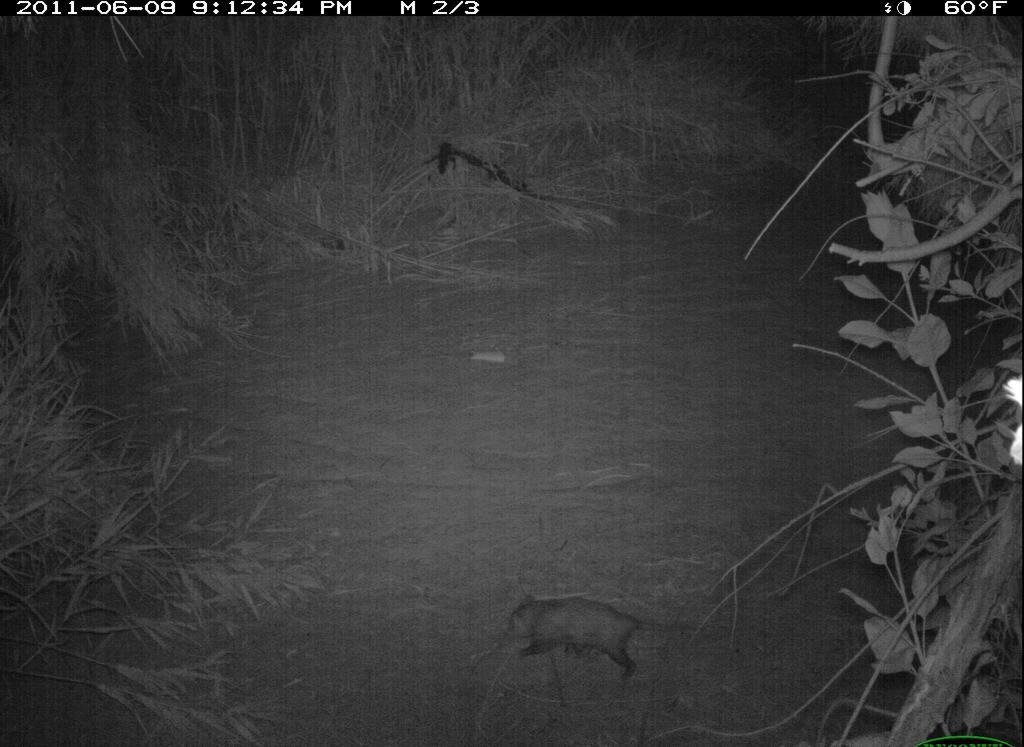opossum: (504, 592, 696, 690)
